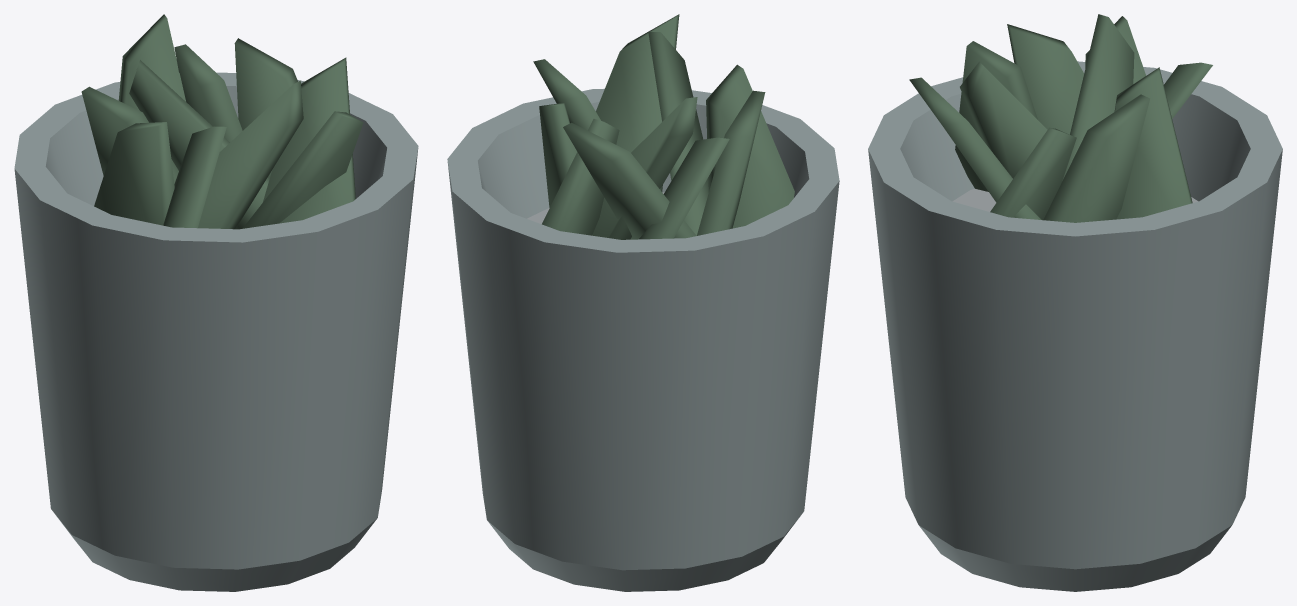
File: veg3.fbx
The picture shows the model from 3 angles, left to right: view 1: azimuth 30°, elevation 25°; view 2: azimuth 150°, elevation 25°; view 3: azimuth 270°, elevation 25°; orthographic projection. The views are drawn at different scales.
Visible parts, largest first — view 1: Cylinder; view 2: Cylinder; view 3: Cylinder.
Part boxes in pixels (left/top/right/bottom): Cylinder: left=14, top=14, right=418, bottom=591; Cylinder: left=447, top=14, right=839, bottom=591; Cylinder: left=868, top=14, right=1282, bottom=591.
Bounding box in the file's own units: 10.89 × 14 × 10.89.
